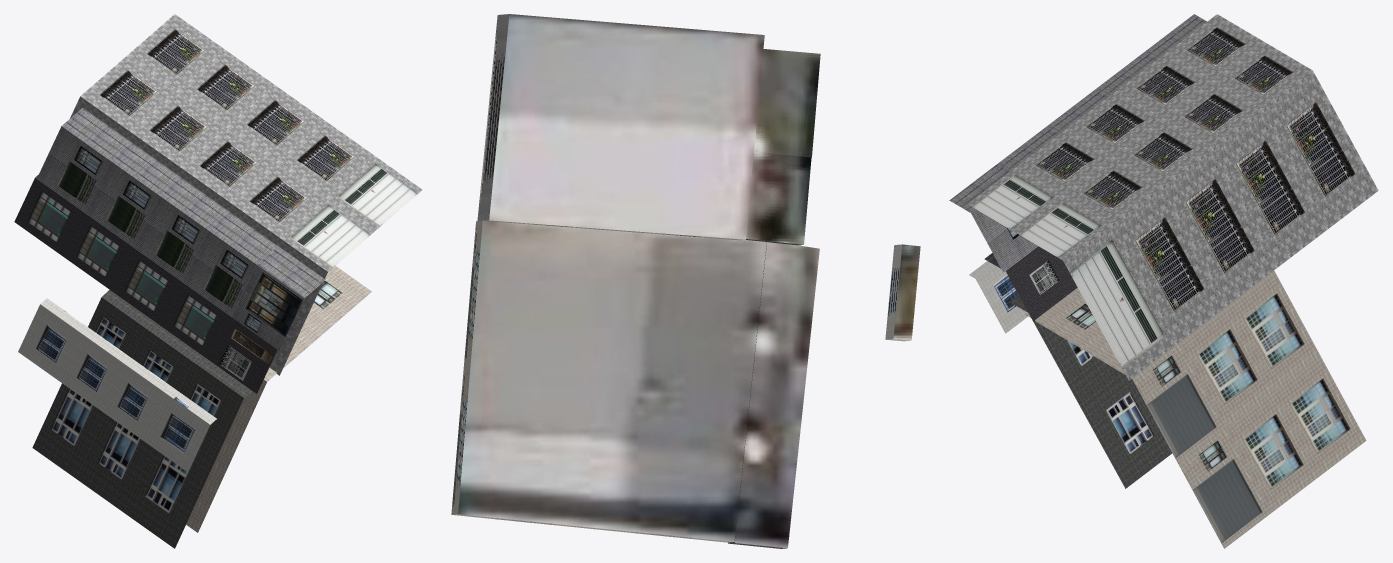
3 views of the same model, side by side, from view 1: azimuth 30°, elevation 25°; view 2: azimuth 150°, elevation 25°; view 3: azimuth 270°, elevation 25° (orthographic). The views are drawn at different scales.
Size of the model in its own units: 22.38 by 26.53 by 22.55.
22 materials, 22 textured.
